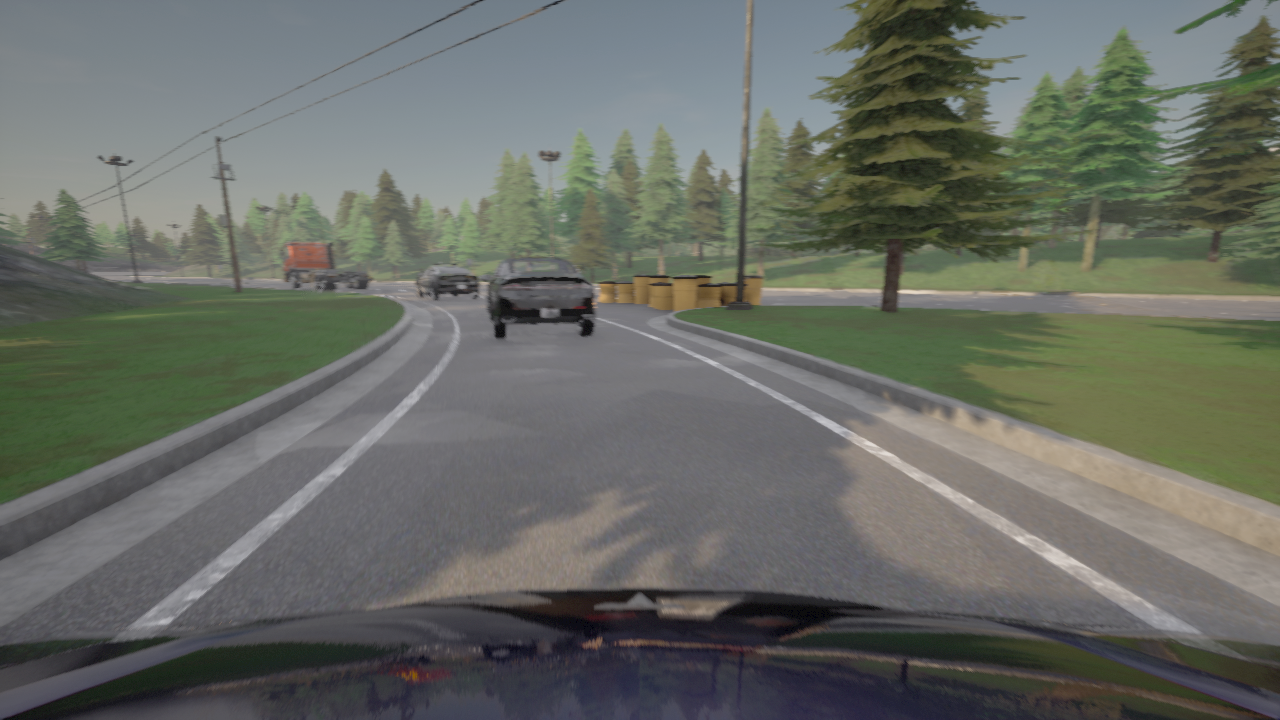cyclist: (0, 588, 1279, 719), (480, 257, 596, 338), (279, 241, 372, 290), (416, 262, 479, 300)
